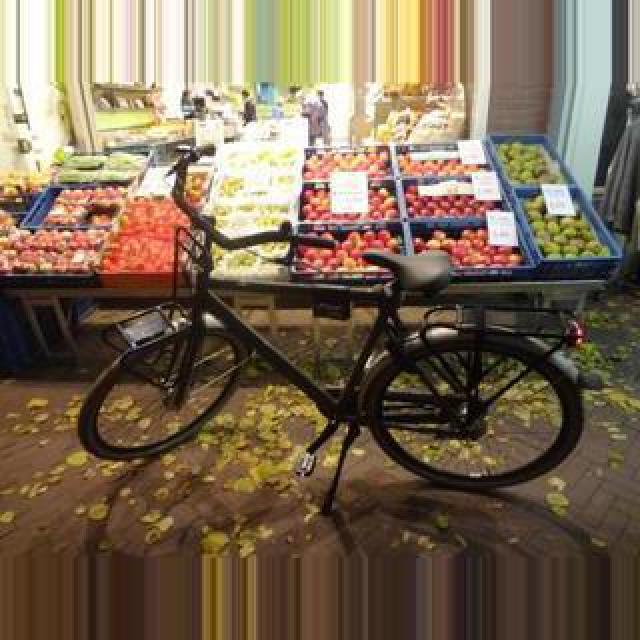Person: (82, 214, 596, 540)
